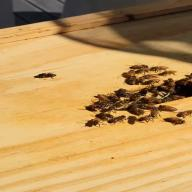Bee: (96, 90, 124, 108), (30, 69, 62, 81), (160, 115, 186, 128), (84, 115, 102, 129), (124, 64, 154, 71), (178, 104, 192, 117)
